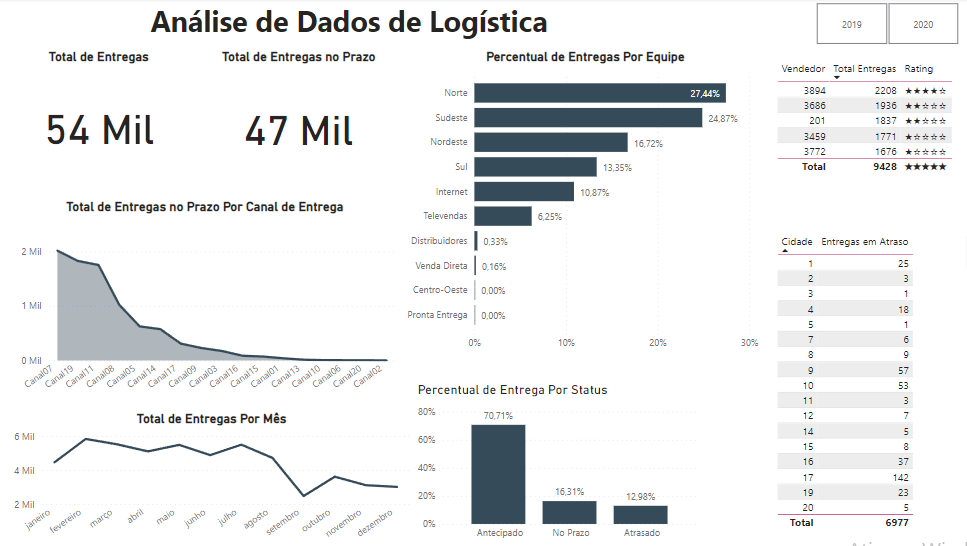

What the dashboard file says about the page in this screenshot:
{"tool":"powerbi","page":{"name":"Página 1","canvas":[1280,720],"ordinal":0},"visuals":[{"type":"card","title":"Total de Entregas","fields":{"Values":["Logistica.TotalEntregas"]},"box":[0,67,261.2,181.5],"z":0},{"type":"card","title":"Total de Entregas no Prazo","fields":{"Values":["Logistica.TotalEntregas"]},"box":[261.2,67.4,261.2,181.5],"z":1},{"type":"clusteredBarChart","title":"Percentual de Entregas Por Equipe","fields":{"Category":["Logistica.Equipe_Entrega"],"Y":["Logistica.TotalEntregas"]},"box":[522.4,67.4,490.8,402.8],"z":2},{"type":"areaChart","title":"Total de Entregas no Prazo Por Canal de Entrega","fields":{"Category":["Logistica.Canal_Entrega"],"Y":["Logistica.TotalEntregas"]},"box":[15.1,262.6,507.3,269.5],"z":3},{"type":"lineChart","title":"Total de Entregas Por Mês","fields":{"Y":["Logistica.TotalEntregas"],"Category":["Logistica.Data_Entrega_Realizada.Variation.Hierarquia de datas.Mês"]},"box":[15,541,528,179],"z":4},{"type":"clusteredColumnChart","title":"Percentual de Entrega Por Status","fields":{"Y":["Logistica.TotalEntregas"],"Category":["Logistica.Status_Entrega"]},"box":[543.1,503.2,378.1,215.9],"z":5},{"type":"tableEx","fields":{"Values":["Logistica.ID_Vendedor","Logistica.TotalEntregas","Logistica.Rating"]},"box":[1013.3,77,266.7,171.9],"z":6},{"type":"tableEx","fields":{"Values":["Logistica.ID_Cidade","Logistica.TotalEntregas"]},"box":[1013.3,303.8,266.7,397.3],"z":7},{"type":"textbox","box":[100.4,0,714.9,67.4],"z":8},{"type":"slicer","fields":{"Values":["Logistica.Data_Entrega_Prevista.Variation.Hierarquia de datas.Ano"]},"box":[1044.9,0,235.1,67.4],"z":9}]}

Visuals, with their boxes in screenshot pixels (x1, y1, x2, y2), scaled from the page's 1280x720 canvas onto the 967x546 screenshot:
"Total de Entregas" card: <box>0,51,197,188</box>
"Total de Entregas no Prazo" card: <box>197,51,395,189</box>
"Percentual de Entregas Por Equipe" clusteredBarChart: <box>395,51,765,357</box>
"Total de Entregas no Prazo Por Canal de Entrega" areaChart: <box>11,199,395,404</box>
"Total de Entregas Por Mês" lineChart: <box>11,410,410,545</box>
"Percentual de Entrega Por Status" clusteredColumnChart: <box>410,382,696,545</box>
tableEx - Logistica.ID_Vendedor x Logistica.TotalEntregas: <box>766,58,966,189</box>
tableEx - Logistica.ID_Cidade x Logistica.TotalEntregas: <box>766,230,966,532</box>
textbox: <box>76,0,616,51</box>
slicer - Logistica.Data_Entrega_Prevista.Variation.Hierarquia de datas.Ano: <box>789,0,966,51</box>
